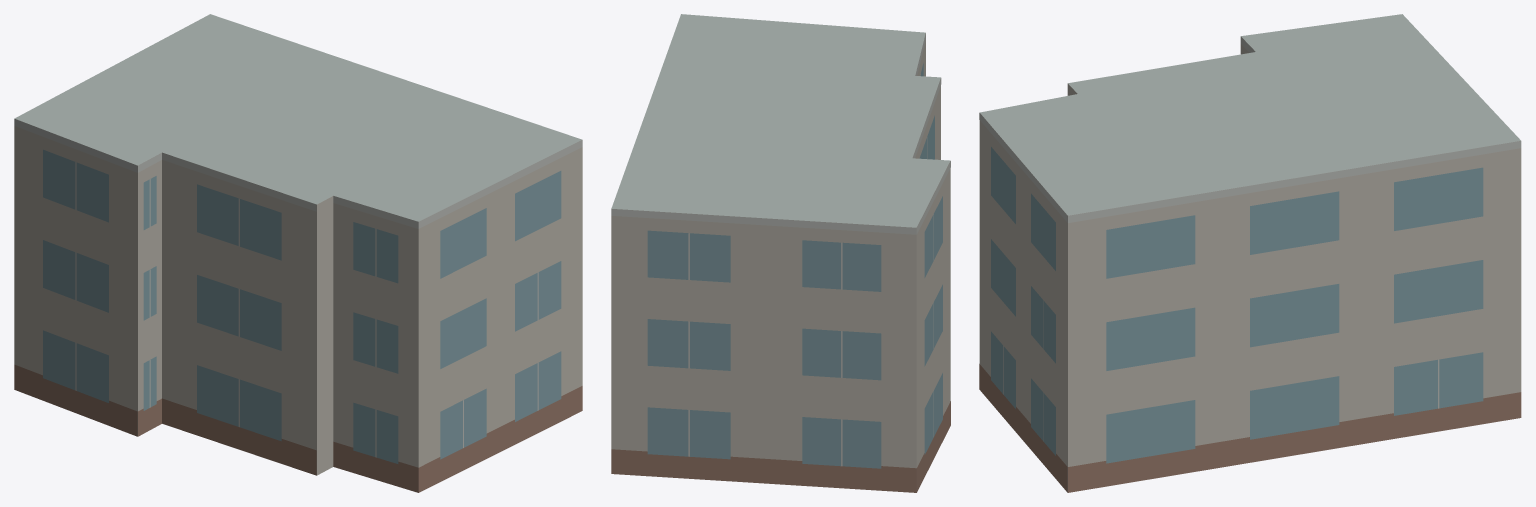
The model's file is survey-upis-32698457.glb.
The picture shows the model from 3 angles, left to right: view 1: azimuth 30°, elevation 25°; view 2: azimuth 150°, elevation 25°; view 3: azimuth 270°, elevation 25°; orthographic projection. The views are drawn at different scales.
Parts seen in each view (by area): view 1: survey-upis-32698457.tmp; view 2: survey-upis-32698457.tmp; view 3: survey-upis-32698457.tmp.
Part boxes in pixels (left/top/right/bottom): survey-upis-32698457.tmp: left=14, top=14, right=582, bottom=492; survey-upis-32698457.tmp: left=611, top=14, right=950, bottom=492; survey-upis-32698457.tmp: left=979, top=14, right=1521, bottom=492.
Size of the model in its own units: 14.3 by 9.15 by 16.22.
